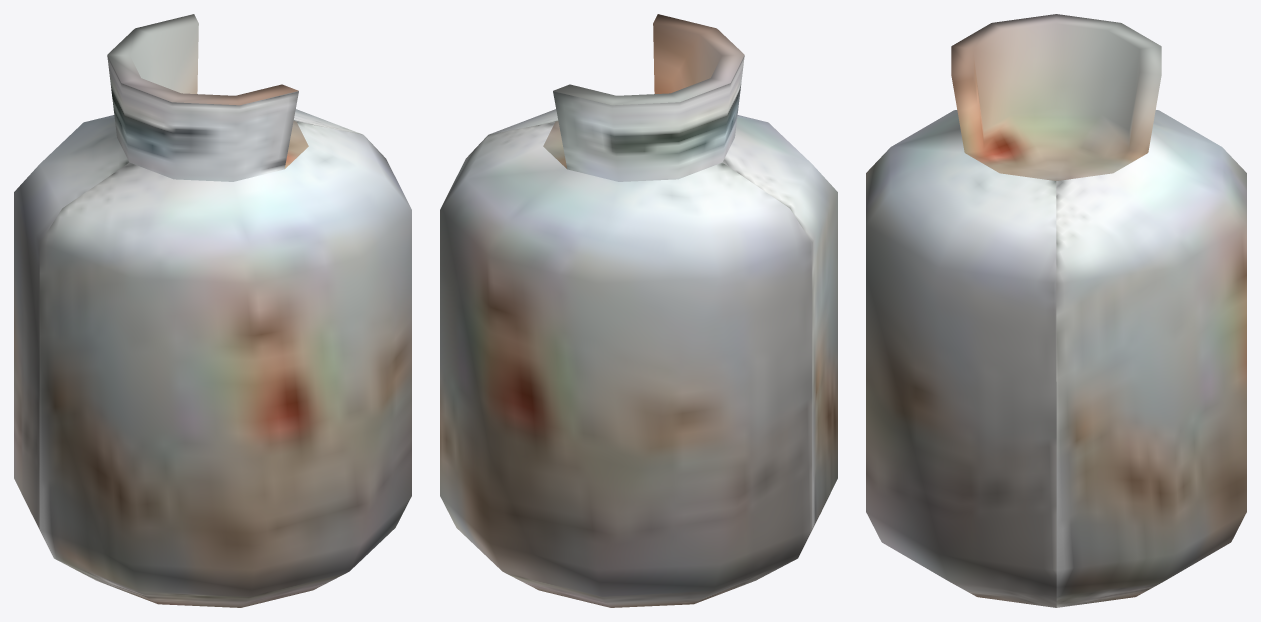
File: propane.FBX
3 renders of one model, left to right at view 1: azimuth 30°, elevation 25°; view 2: azimuth 150°, elevation 25°; view 3: azimuth 270°, elevation 25°, orthographic.
Visible parts, largest first — view 1: propane; view 2: propane; view 3: propane.
Part boxes in pixels (x1=…): propane: x1=14, y1=14, x2=411, y2=607; propane: x1=440, y1=14, x2=837, y2=607; propane: x1=866, y1=14, x2=1246, y2=607.
Size of the model in its own units: 54.81 by 74.31 by 52.12.
